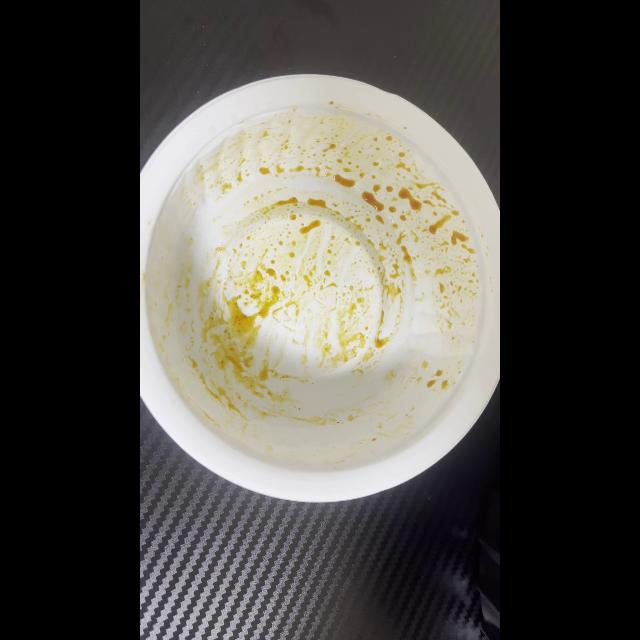dirty: (140, 76, 494, 494)
